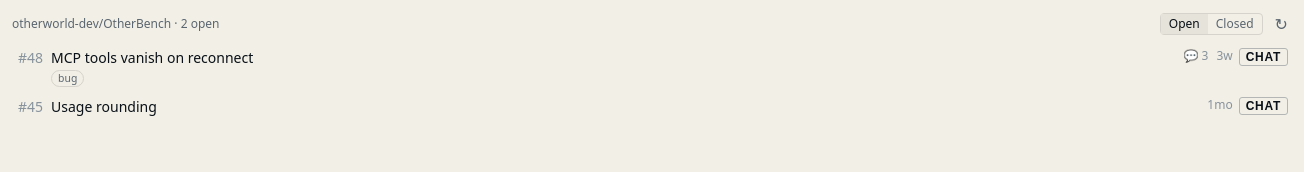
Test: IssuesTab › a row's Chat button that fails says why
The width and height of the screenshot is (1304, 172).
Click the button with aria-label "Start a chat on #48".
click(1263, 57)  # box [1239,48,1288,66]
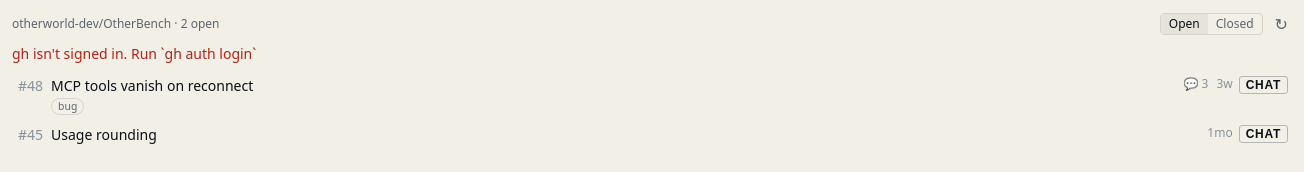
expect the text "gh isn't signed in. Run `gh auth login`" is shown: met, box [12,44,256,63]
